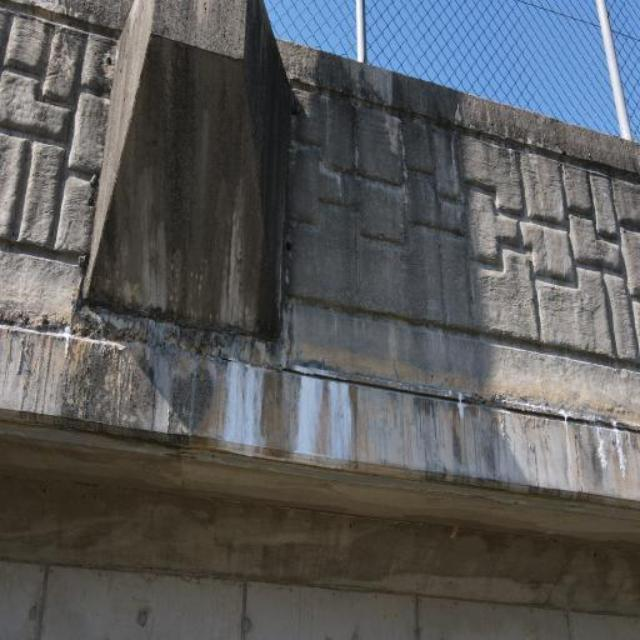D01: (222, 362, 265, 449), (298, 378, 325, 457), (330, 382, 353, 461)
